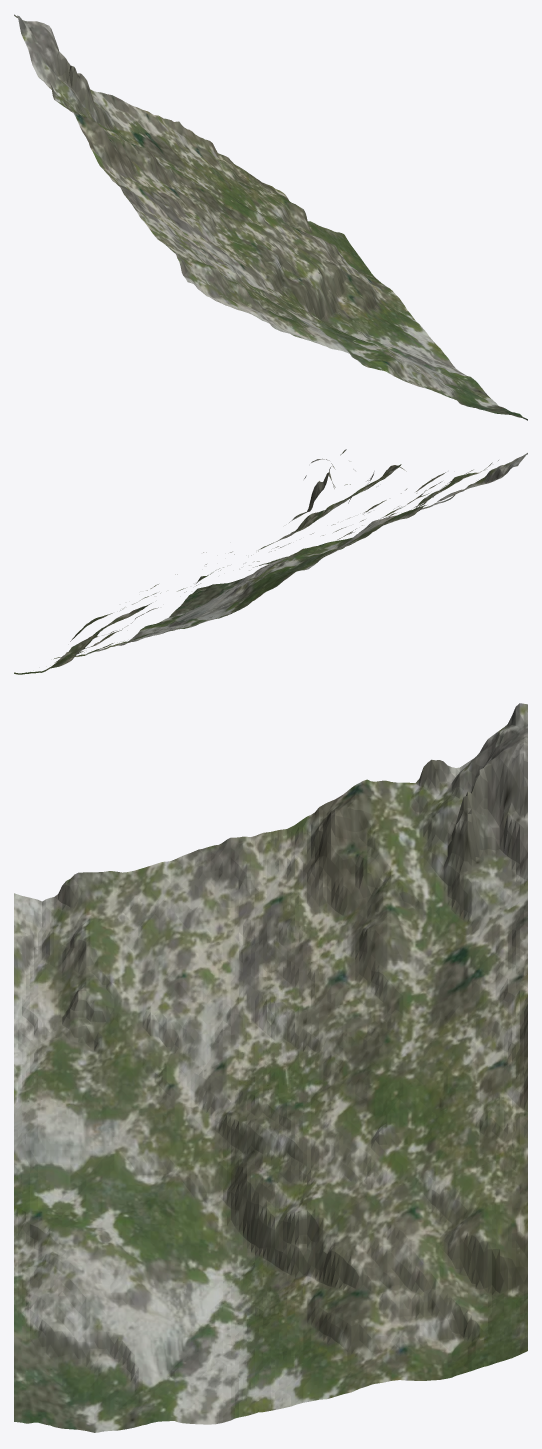
The picture shows the model from 3 angles, top to bottom: view 1: azimuth 30°, elevation 25°; view 2: azimuth 150°, elevation 25°; view 3: azimuth 270°, elevation 25°; orthographic projection. The views are drawn at different scales.
Bounding box in the file's own units: 250 × 261 × 241.
1 material, 1 textured.
